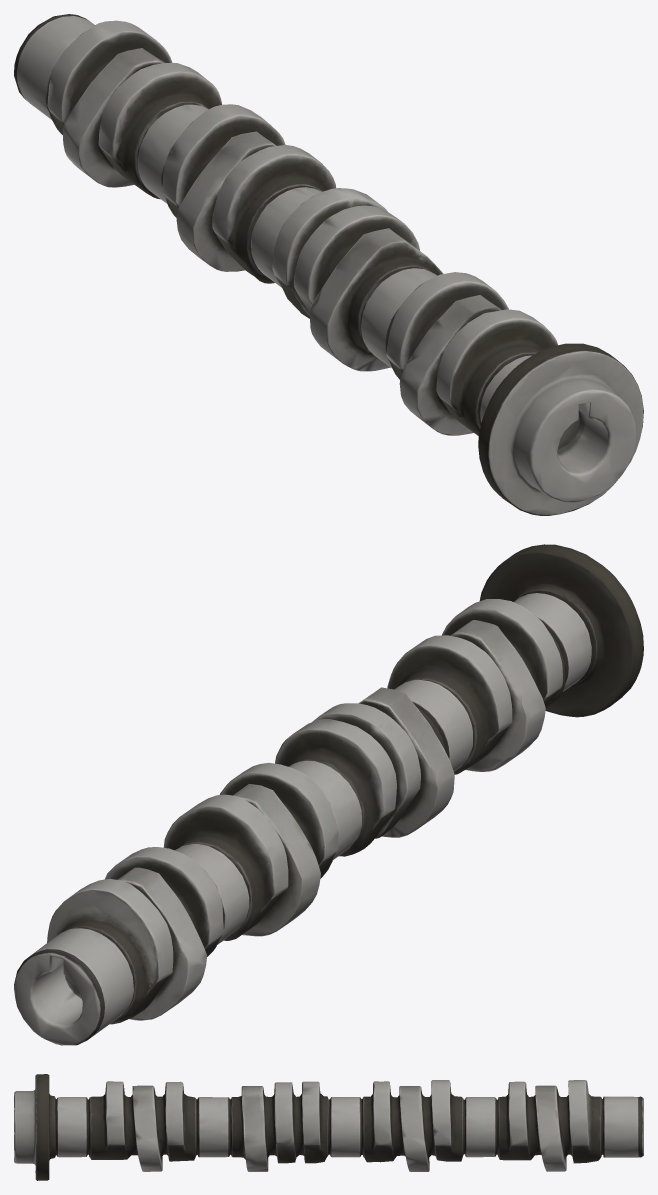
File: camshaft-valve.glb
3 renders of one model, top to bottom at view 1: azimuth 30°, elevation 25°; view 2: azimuth 150°, elevation 25°; view 3: azimuth 270°, elevation 25°, orthographic. The views are drawn at different scales.
Visible parts, largest first — view 1: tripo_node_407bda2e-86dd-48ac-87d0-843a4bcde3e3; view 2: tripo_node_407bda2e-86dd-48ac-87d0-843a4bcde3e3; view 3: tripo_node_407bda2e-86dd-48ac-87d0-843a4bcde3e3.
Part boxes in pixels (x1,y1,x2,y2): tripo_node_407bda2e-86dd-48ac-87d0-843a4bcde3e3: [14, 14, 643, 515]; tripo_node_407bda2e-86dd-48ac-87d0-843a4bcde3e3: [14, 544, 643, 1045]; tripo_node_407bda2e-86dd-48ac-87d0-843a4bcde3e3: [14, 1074, 643, 1180].
Size of the model in its own units: 0.171 by 0.1679 by 1.
1 material, 1 textured.
